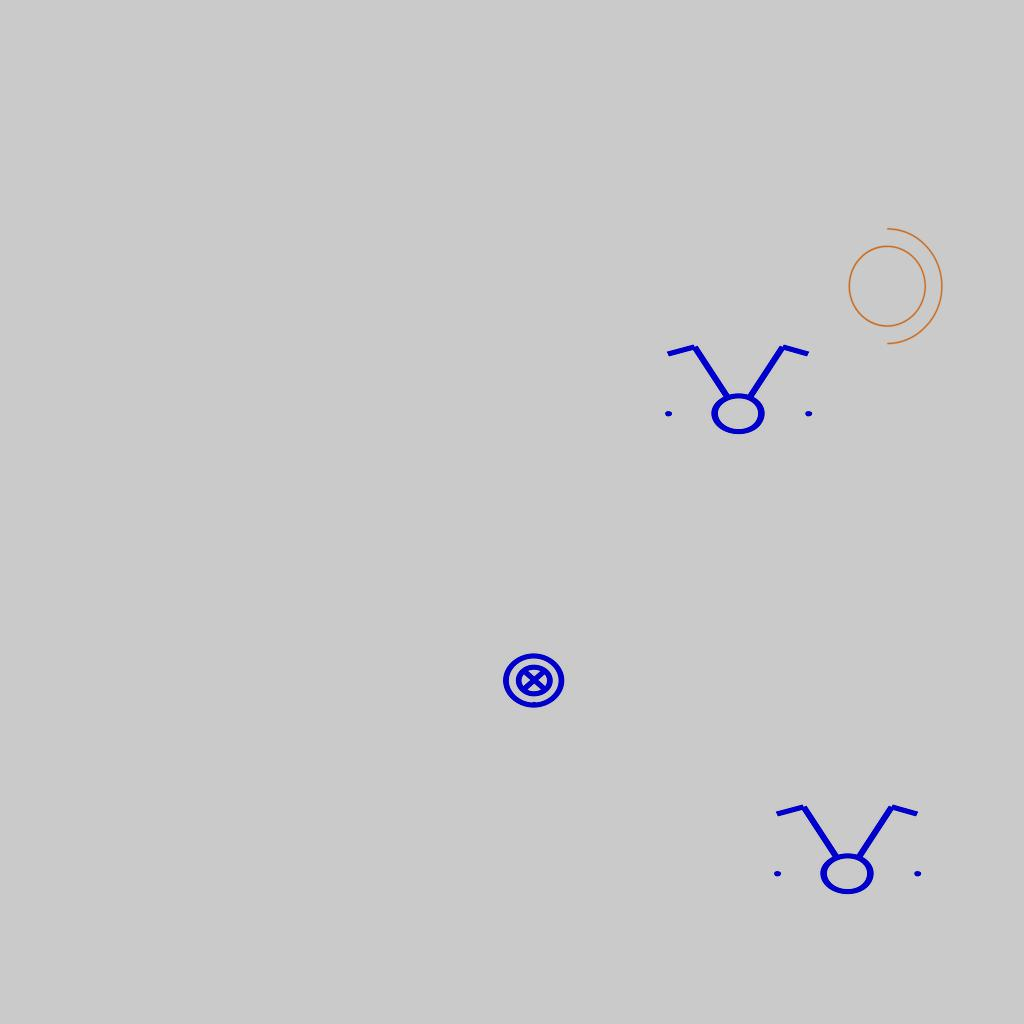Scheinwerfer_fuer_Alarmbeleuchtung: (836, 217, 948, 349)
Serienschalter: (762, 800, 930, 896), (653, 340, 821, 436)
Taster_beleuchtet: (501, 647, 567, 713)
